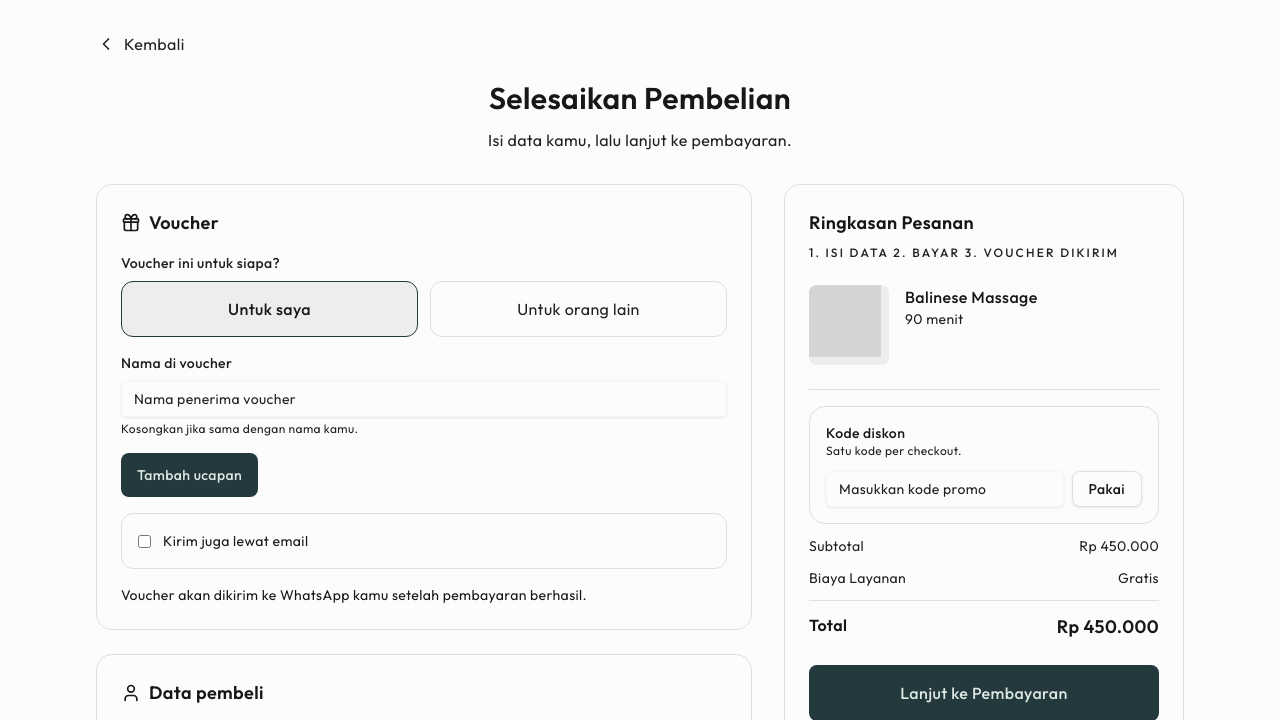
it: CheckoutPageClient › shows conditional recipient contact fields based on sendTo and delivery method
Check: the radio button labelled "Untuk saya" is checked, box [121,281,418,337]
Check: the text "WhatsApp penerima" is not shown
Click the radio button labelled "Untuk orang lain" at (578, 309), box [430,281,727,337]
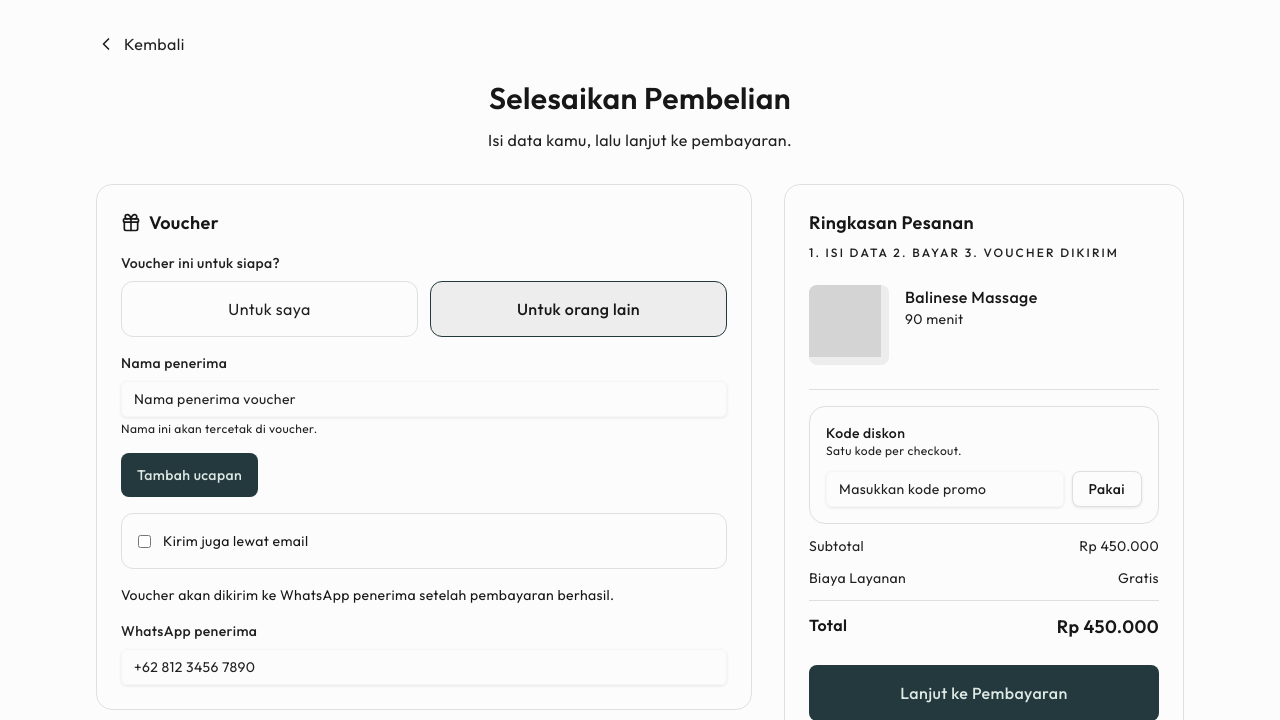
Check: the text "Email penerima" is not shown
Check: the text "WhatsApp penerima" is shown, box [121,622,257,640]
Click the checkbox labelled "Kirim juga lewat email" at (144, 541), box [138,534,151,548]
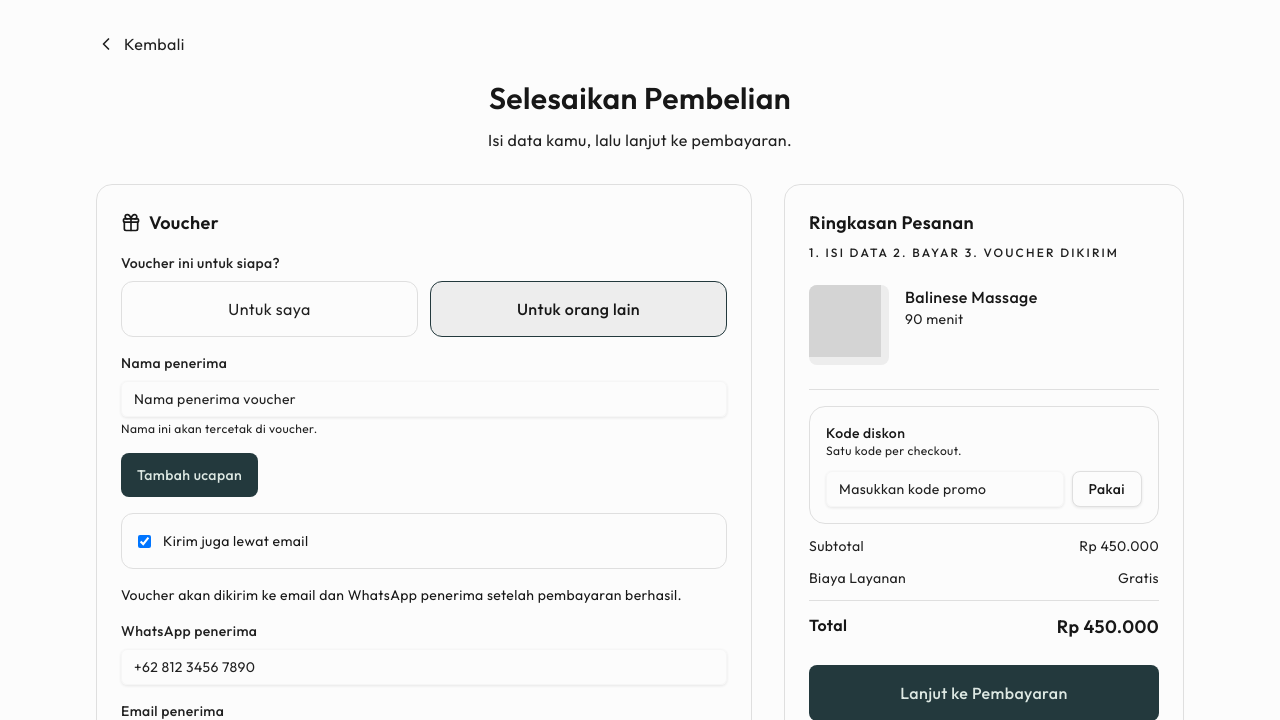
Check: the text "WhatsApp penerima" is shown, box [121,622,257,640]
Check: the text "Email penerima" is shown, box [121,702,224,719]
Click the radio button labelled "Untuk saya" at (270, 309), box [121,281,418,337]
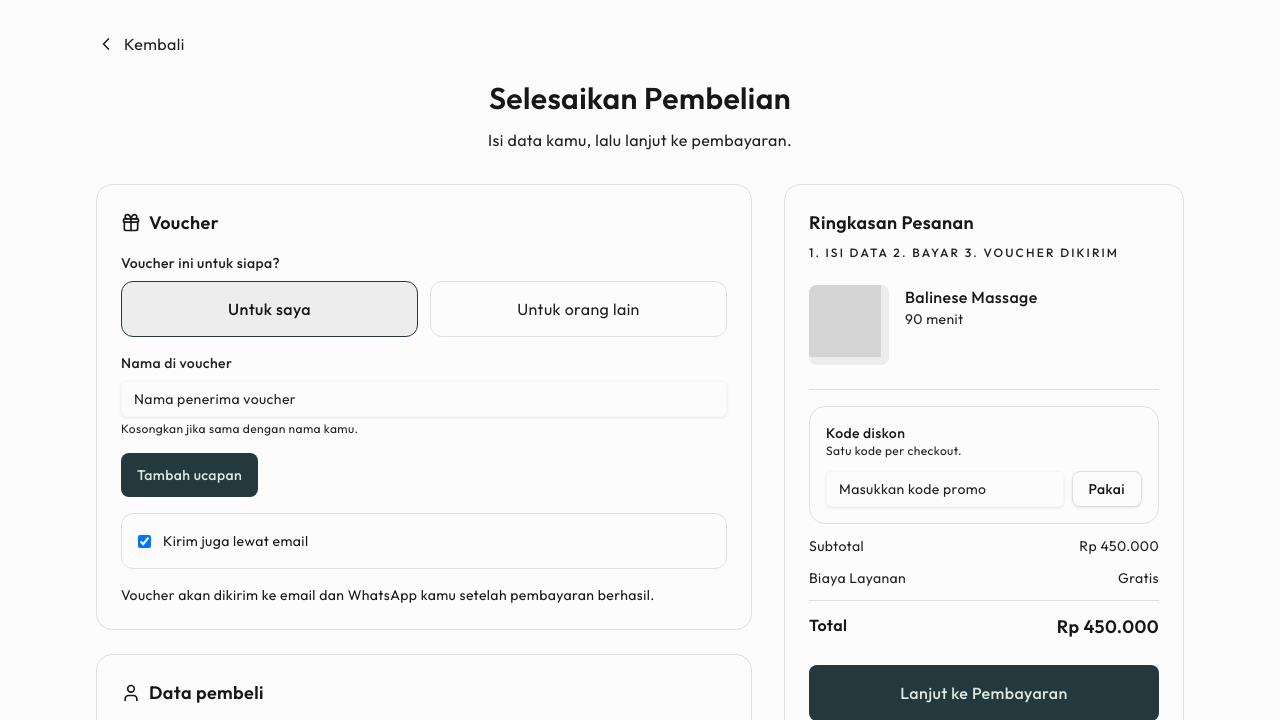
Check: the text "Email penerima" is gone
Check: the text "WhatsApp penerima" is gone
Check: the text "Voucher akan dikirim ke email dan WhatsApp kamu setelah pembayaran berhasil." is shown, box [121,585,727,605]
